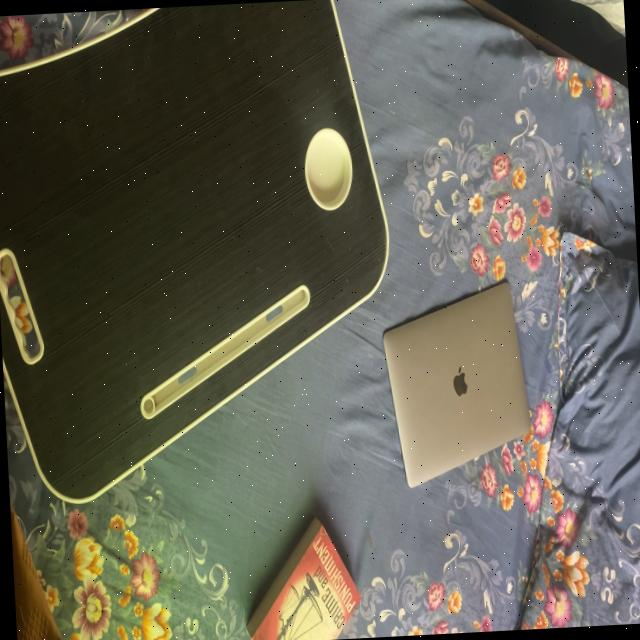book: (230, 492, 365, 640)
laptop: (376, 276, 534, 507)
table: (0, 0, 392, 515)
